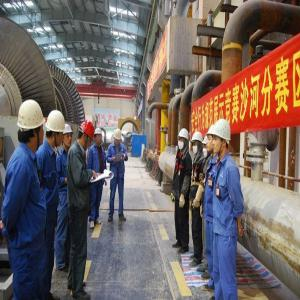red: (77, 120, 95, 149)
white: (17, 100, 45, 151), (46, 111, 65, 151), (213, 118, 232, 156), (192, 131, 205, 157), (63, 123, 75, 149), (178, 128, 190, 152), (207, 127, 215, 152), (94, 128, 104, 146), (114, 130, 122, 146)
